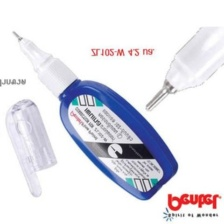correction_fluid: (8, 27, 180, 203)
